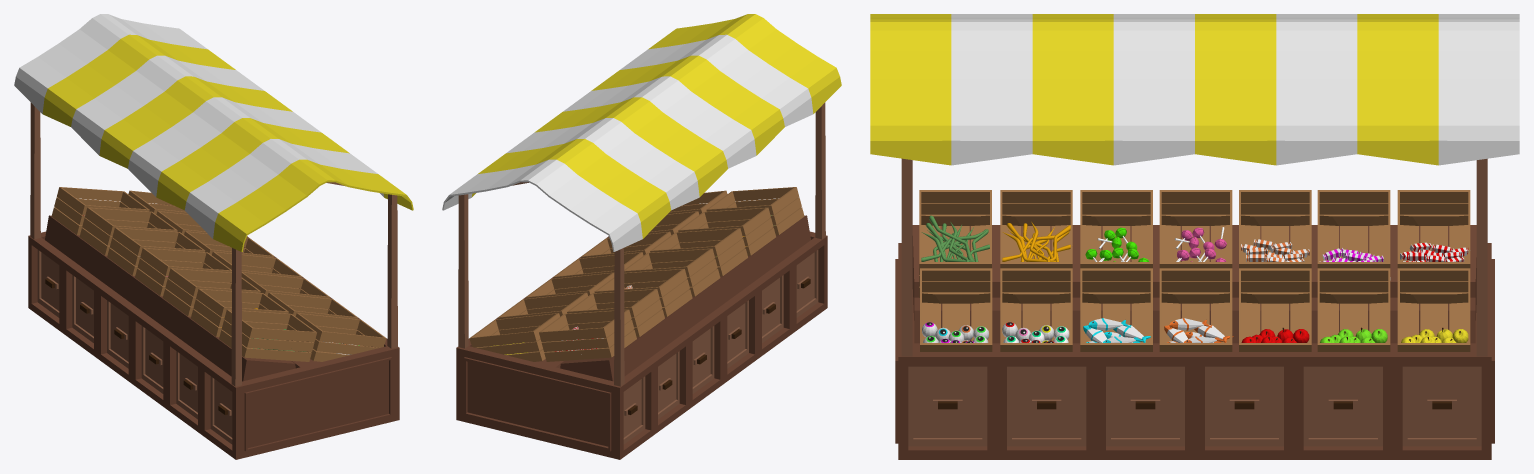
File: puestoIngredientes3 1.fbx
3 renders of one model, left to right at view 1: azimuth 30°, elevation 25°; view 2: azimuth 150°, elevation 25°; view 3: azimuth 270°, elevation 25°, orthographic. The views are drawn at different scales.
Visible parts, largest first — view 1: Base, ToldoColor, ToldoBlanco, Cajones, Postes, Cube.2398, Cube.2391, Cube.2404, Cube.2402, Cube.2401, Cube.2403, Cube.2400 (+8 smaller); view 2: Base, ToldoBlanco, ToldoColor, Cajones, Postes, Cube.2404, Cube.2397, Cube.2398, Cube.2399, Cube.2401, Cube.2400, Cube.2403 (+8 smaller); view 3: ToldoColor, ToldoBlanco, Cajones, Base, Cube.2396, Cube.2397, Cube.2395, Cube.2403, Cube.2392, Cube.2391, Cube.2394, Cube.2393 (+8 smaller).
Part boxes in pixels (box(x1,y1,x2,y2)): Base: box(28, 204, 399, 459); ToldoColor: box(42, 34, 413, 251); ToldoBlanco: box(14, 14, 383, 238); Cajones: box(37, 250, 232, 444); Postes: box(30, 102, 397, 386); Cube.2398: box(219, 309, 316, 361); Cube.2391: box(295, 313, 386, 361); Cube.2404: box(51, 187, 149, 235); Cube.2402: box(107, 227, 205, 275); Cube.2401: box(135, 248, 231, 296); Cube.2403: box(79, 207, 177, 255); Cube.2400: box(162, 268, 260, 316); Base: box(456, 204, 827, 459); ToldoBlanco: box(442, 34, 813, 251); ToldoColor: box(472, 14, 841, 238); Cajones: box(623, 250, 818, 444); Postes: box(458, 102, 825, 386); Cube.2404: box(539, 309, 636, 361); Cube.2397: box(469, 313, 559, 361); Cube.2398: box(706, 187, 804, 235); Cube.2399: box(678, 207, 775, 255); Cube.2401: box(624, 248, 720, 296); Cube.2400: box(650, 228, 747, 276); Cube.2403: box(567, 289, 664, 337); ToldoColor: box(870, 14, 1438, 165); ToldoBlanco: box(951, 14, 1519, 165); Cajones: box(908, 366, 1481, 446); Base: box(895, 225, 1494, 459); Cube.2396: box(1317, 268, 1390, 351); Cube.2397: box(1397, 268, 1470, 351); Cube.2395: box(1239, 268, 1311, 351); Cube.2403: box(1317, 190, 1390, 268); Cube.2392: box(1000, 268, 1072, 351); Cube.2391: box(920, 268, 992, 351); Cube.2394: box(1159, 268, 1232, 351); Cube.2393: box(1080, 268, 1152, 351).
Size of the model in its own units: 720 by 1065 by 1645.
